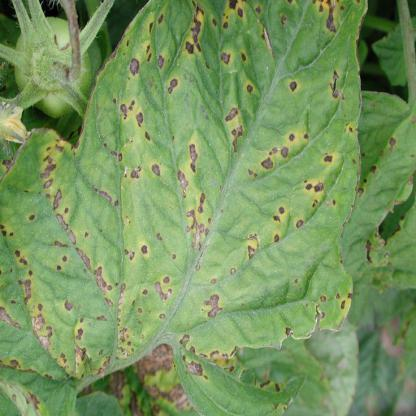Tomato leaf late blight: (6, 0, 386, 402)
